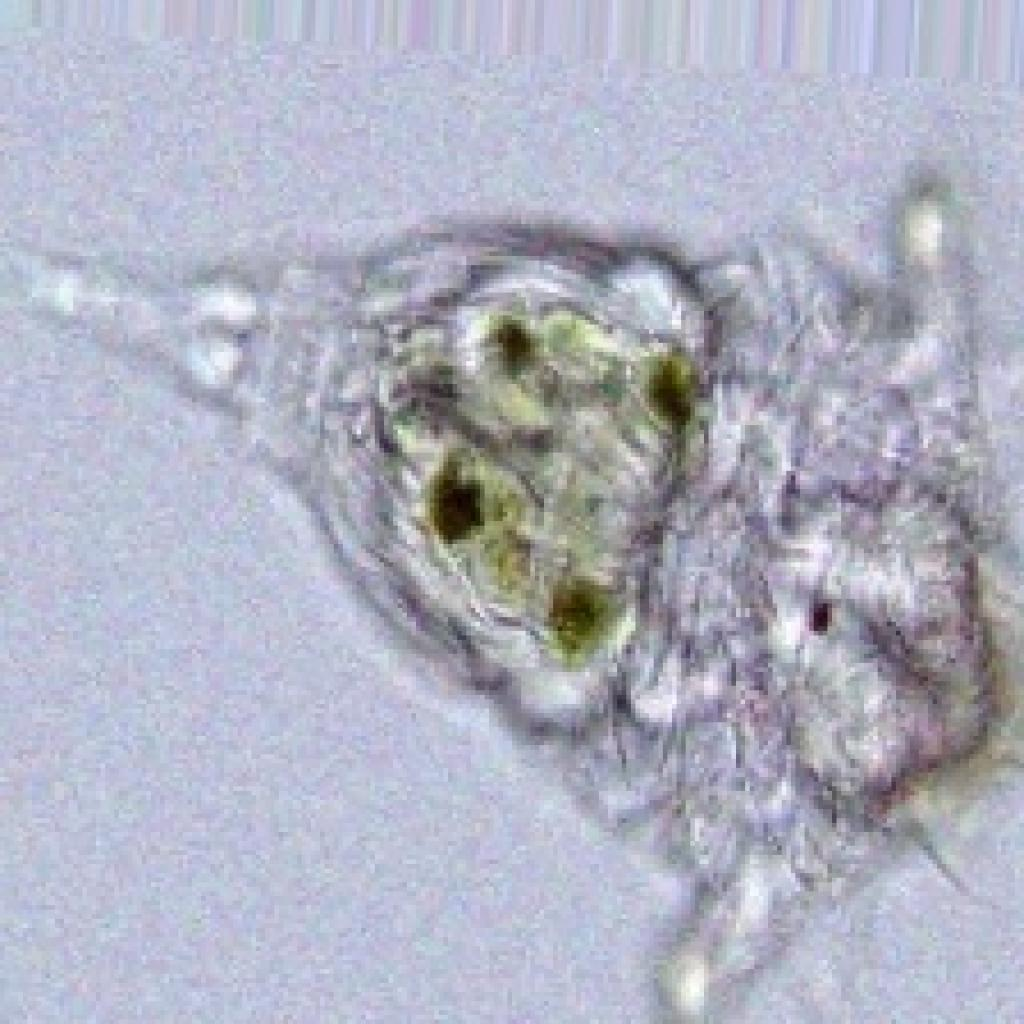Rotifer: (74, 134, 1023, 1024)
